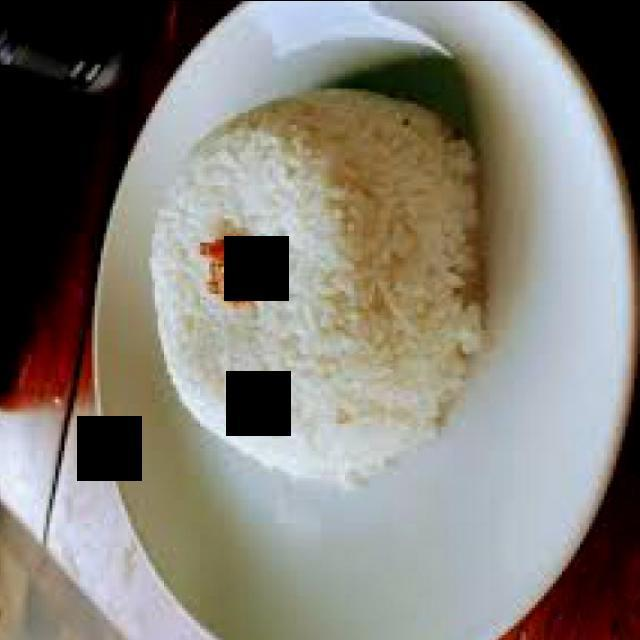Chicken -Chicken Inasal-: (159, 240, 487, 484), (152, 89, 485, 303)
